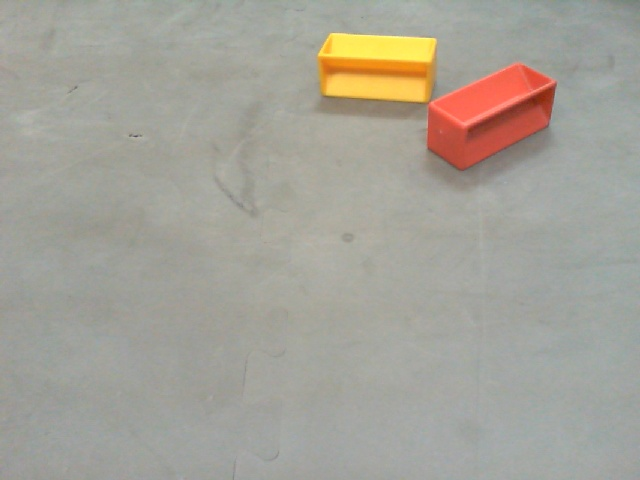RedSample: (427, 62, 560, 172)
YellowSample: (318, 33, 437, 102)
